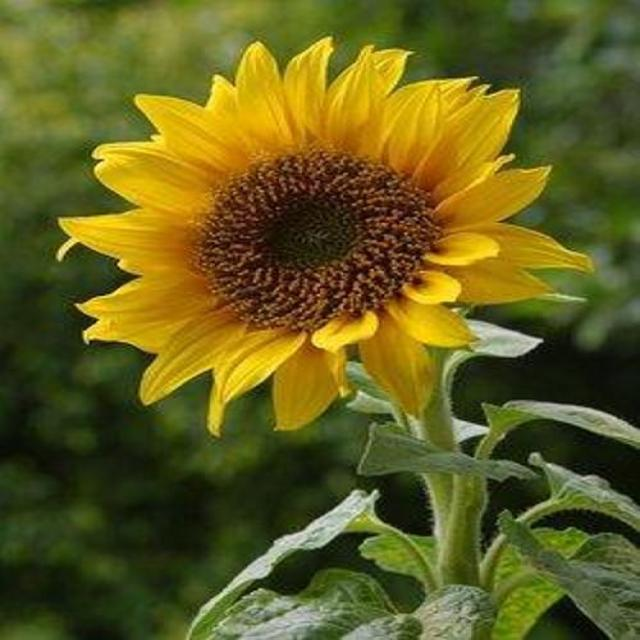sunflower: (48, 36, 592, 444)
